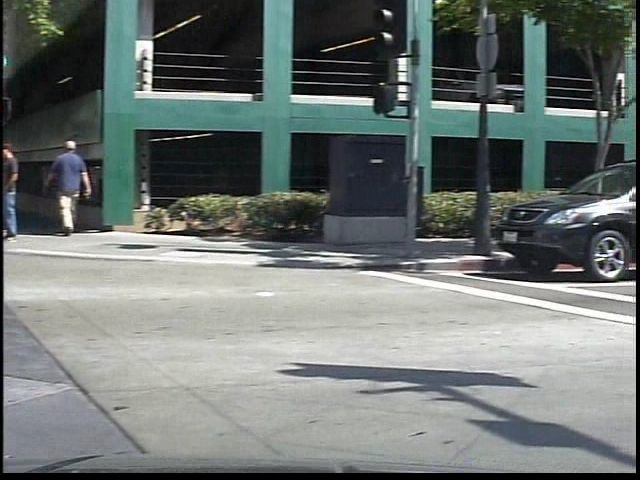person: (55, 135, 108, 240), (9, 135, 40, 248)
